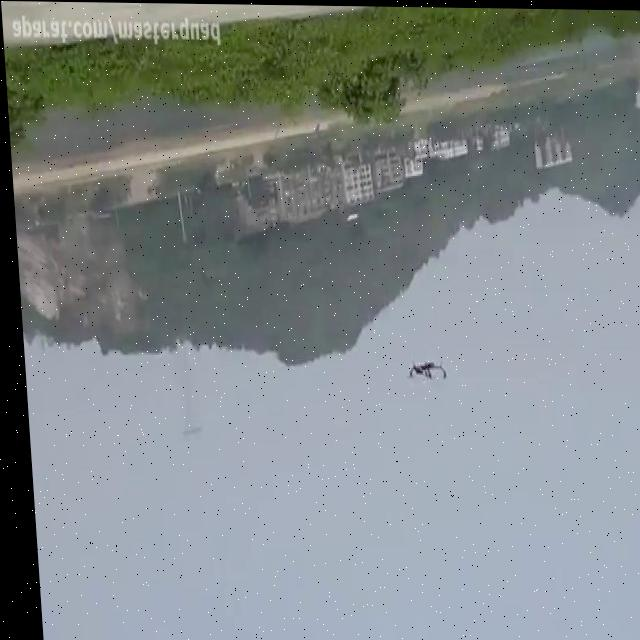drone: (396, 352, 444, 385)
